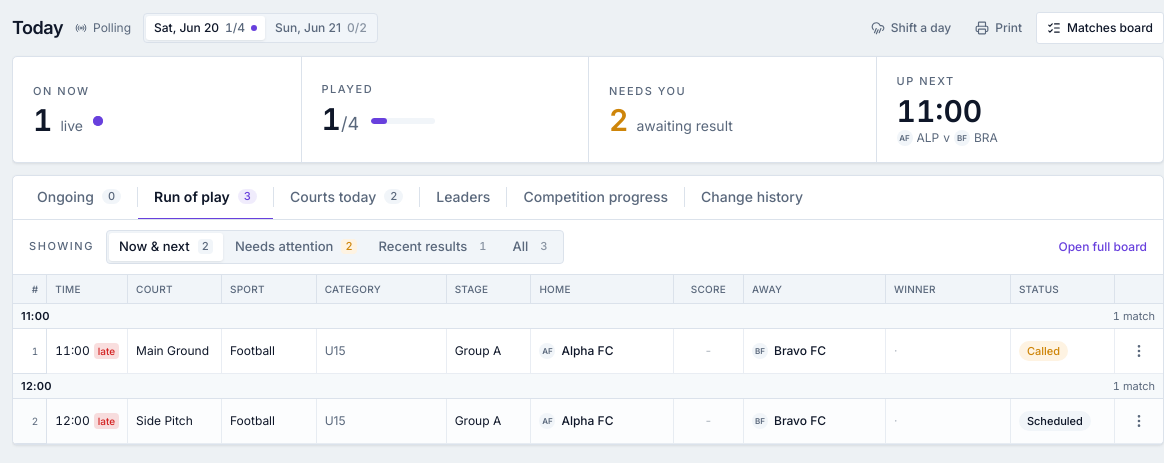
Scenario: ControlRoomPage › the Ongoing tab says so when nothing is in play
Click the tab with test id "board-tab-live". click: (79, 198)
box: [21,176,137,220]
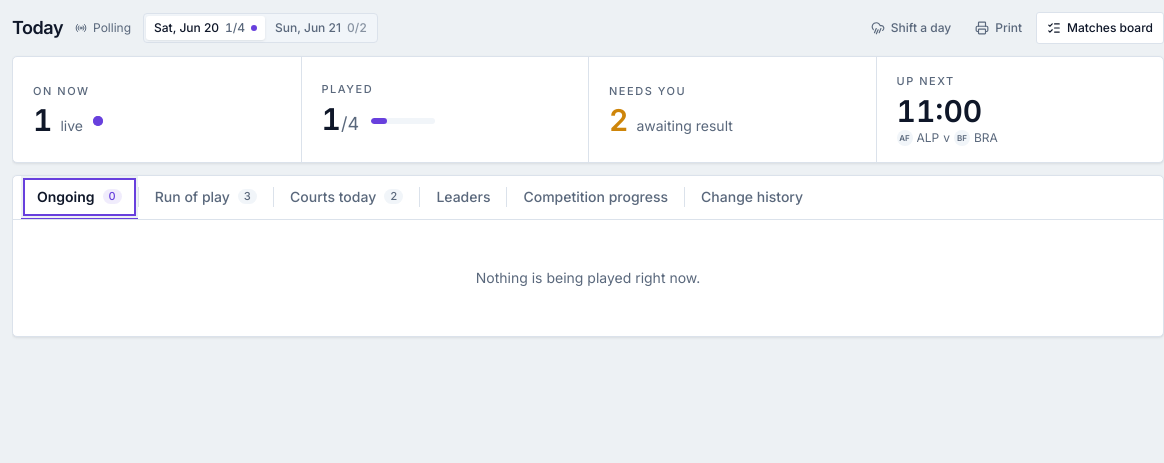
Now the text "Nothing is being played right now." is shown, box [476,268,700,286]
